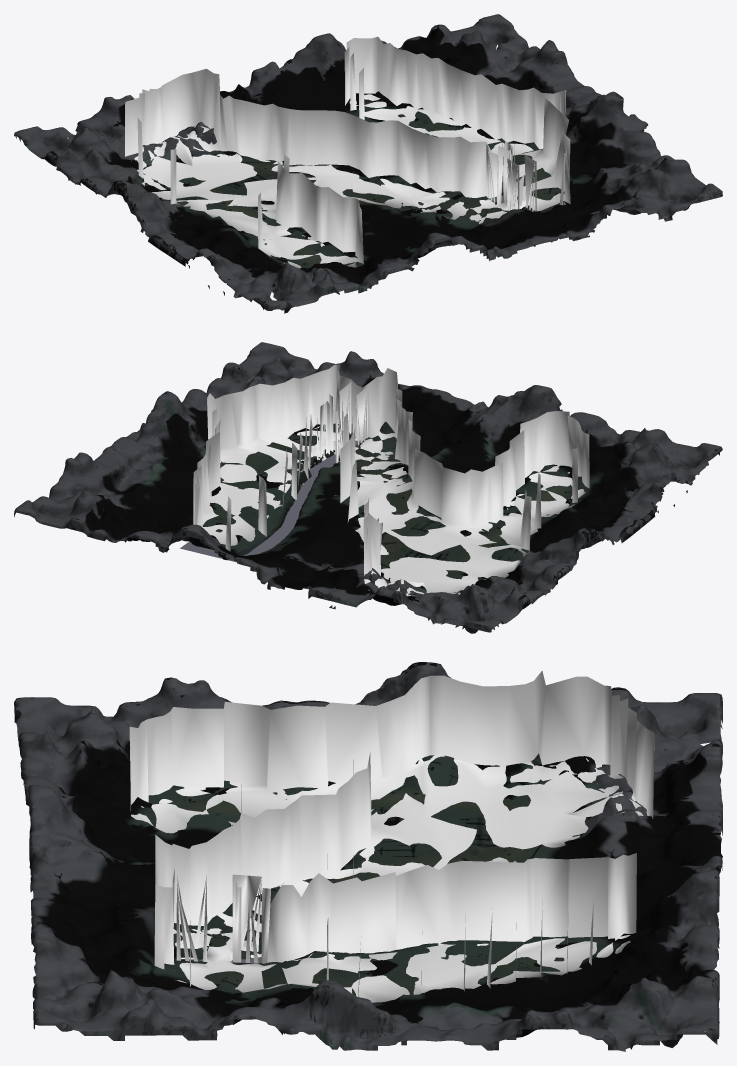
File: TERRAIN.glb
3 renders of one model, top to bottom at view 1: azimuth 30°, elevation 25°; view 2: azimuth 150°, elevation 25°; view 3: azimuth 270°, elevation 25°, orthographic. The views are drawn at different scales.
Parts seen in each view (by area): view 1: TERRAIN, RIDGID; view 2: TERRAIN, RIDGID, Plane; view 3: TERRAIN, RIDGID.
Boxes of the visible parts, x1,y1,x2,y2 form: TERRAIN: (14,14,722,313); RIDGID: (125,36,570,268); TERRAIN: (14,342,722,633); RIDGID: (193,364,589,596); Plane: (180,440,360,562); TERRAIN: (14,662,722,1051); RIDGID: (129,671,654,1002).
Bounding box in the file's own units: 82.09 × 15.68 × 72.11.
2 materials, 1 textured.
